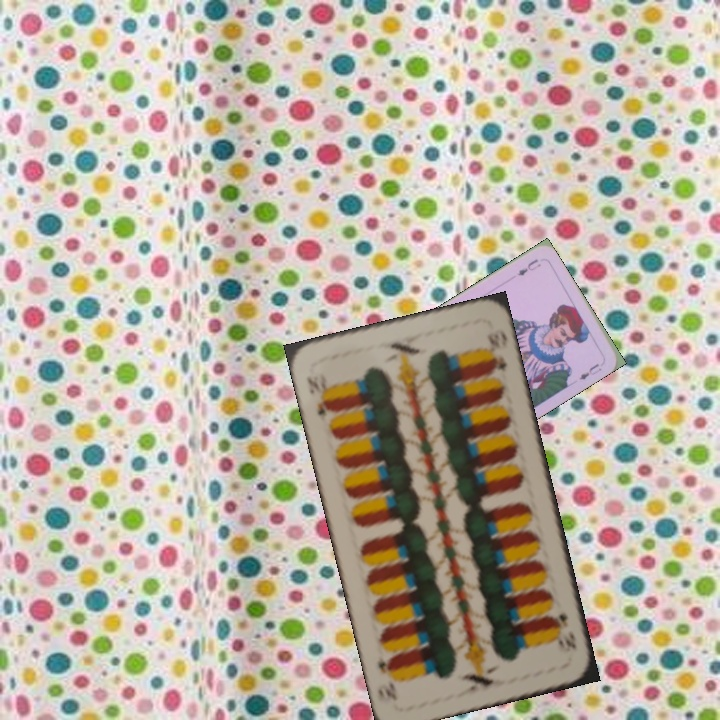E10: (302, 372, 335, 422), (548, 610, 579, 655)
EU: (514, 255, 544, 278)
